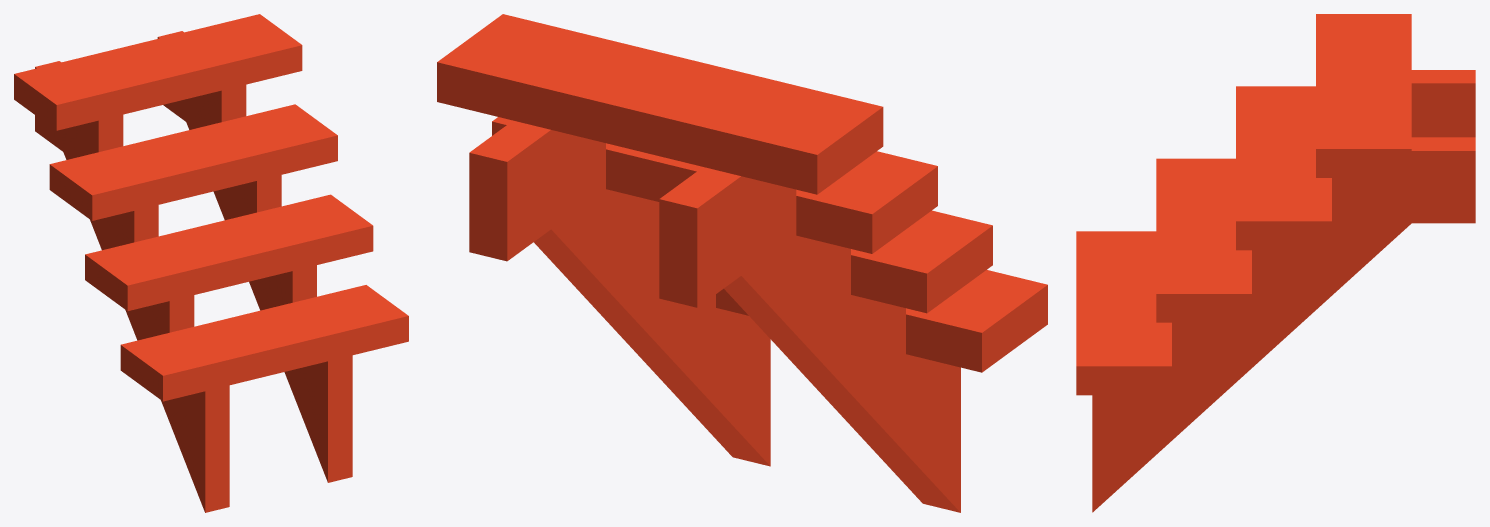
Rendered from SM_Stairs_Wood_Regular_1m_Top.fbx.
The picture shows the model from 3 angles, left to right: view 1: azimuth 30°, elevation 25°; view 2: azimuth 150°, elevation 25°; view 3: azimuth 270°, elevation 25°; orthographic projection. The views are drawn at different scales.
Visible parts, largest first — view 1: stairs-wood-regular-1m-top; view 2: stairs-wood-regular-1m-top; view 3: stairs-wood-regular-1m-top.
Boxes of the visible parts, x1,y1,x2,y2 form: stairs-wood-regular-1m-top: [14, 14, 408, 512]; stairs-wood-regular-1m-top: [437, 14, 1047, 512]; stairs-wood-regular-1m-top: [1076, 14, 1475, 512].
Bounding box in the file's own units: 1 × 1.35 × 1.25.
